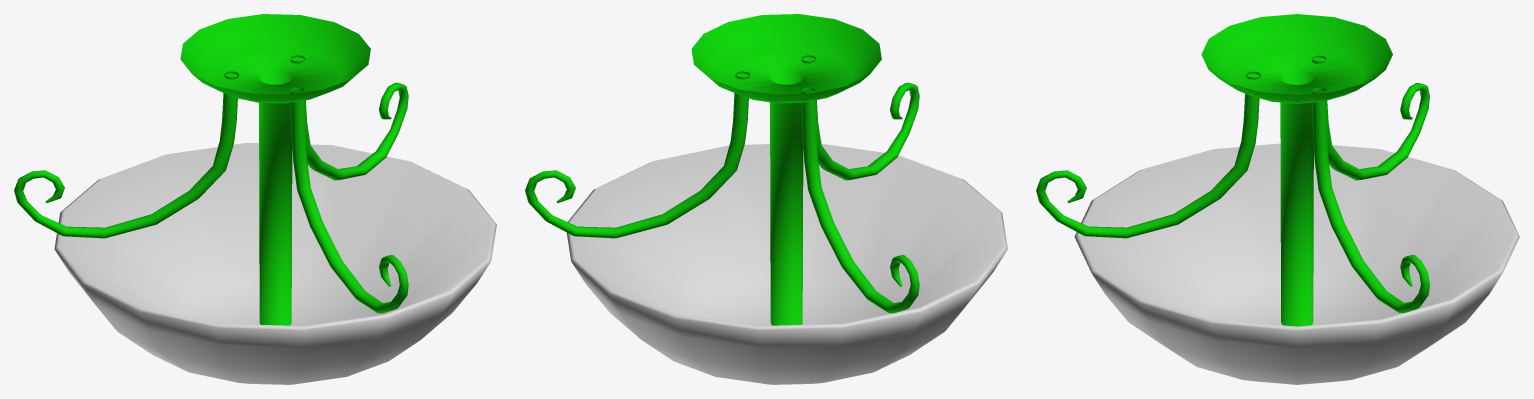
Rendered from ceiling_lamp_2.fbx.
The picture shows the model from 3 angles, left to right: view 1: azimuth 30°, elevation 25°; view 2: azimuth 150°, elevation 25°; view 3: azimuth 270°, elevation 25°; orthographic projection.
Visible parts, largest first — view 1: lamp, base; view 2: lamp, base; view 3: lamp, base.
Boxes of the visible parts, bbox=[...] form: lamp: bbox=[54, 142, 496, 384]; base: bbox=[14, 14, 408, 325]; lamp: bbox=[566, 143, 1007, 384]; base: bbox=[525, 14, 919, 325]; lamp: bbox=[1074, 143, 1519, 384]; base: bbox=[1036, 14, 1429, 326].
Bounding box in the file's own units: 47.29 × 37.5 × 50.49.
